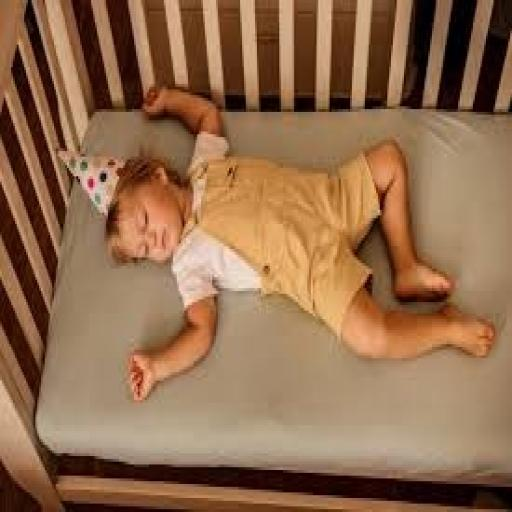baby: (107, 87, 495, 400)
crib: (0, 0, 439, 511)
